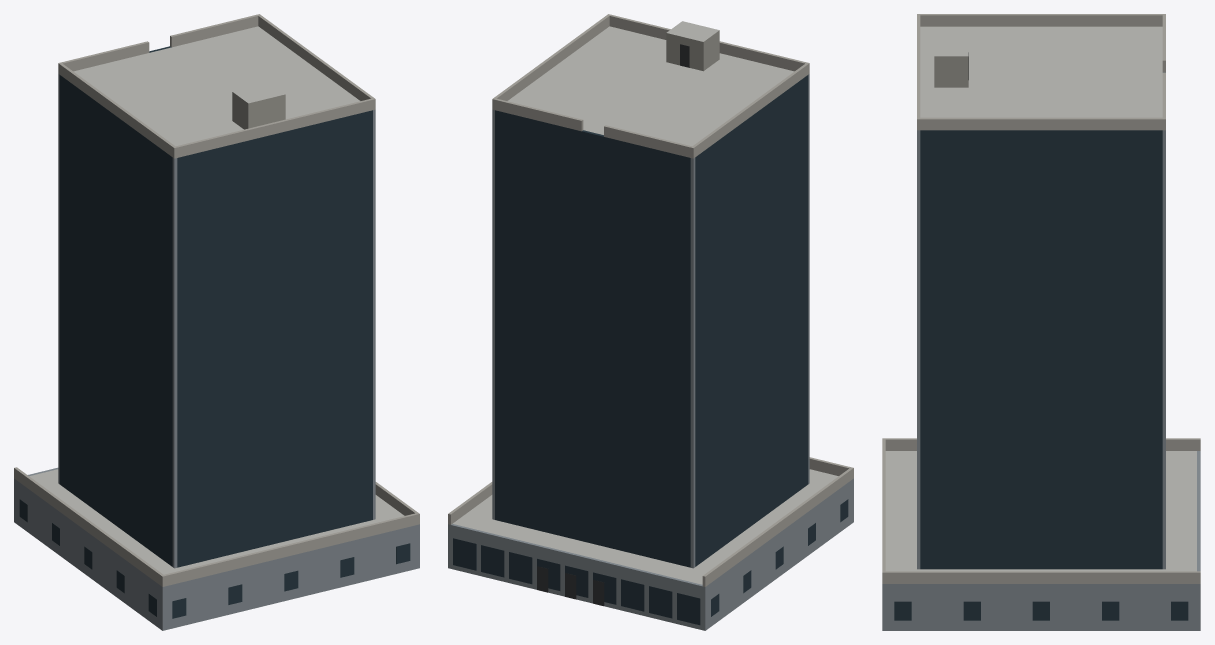
File: bld_t5_tower_ch12_quest.glb
3 renders of one model, left to right at view 1: azimuth 30°, elevation 25°; view 2: azimuth 150°, elevation 25°; view 3: azimuth 270°, elevation 25°, orthographic. The views are drawn at different scales.
Visible parts, largest first — view 1: bld_t5_tower_ch12_quest-col; view 2: bld_t5_tower_ch12_quest-col; view 3: bld_t5_tower_ch12_quest-col.
Boxes of the visible parts, left/top/right/bottom form: bld_t5_tower_ch12_quest-col: left=14, top=14, right=419, bottom=630; bld_t5_tower_ch12_quest-col: left=448, top=14, right=853, bottom=630; bld_t5_tower_ch12_quest-col: left=882, top=14, right=1200, bottom=630.
Bounding box in the file's own units: 27.62 × 49.5 × 27.63.
